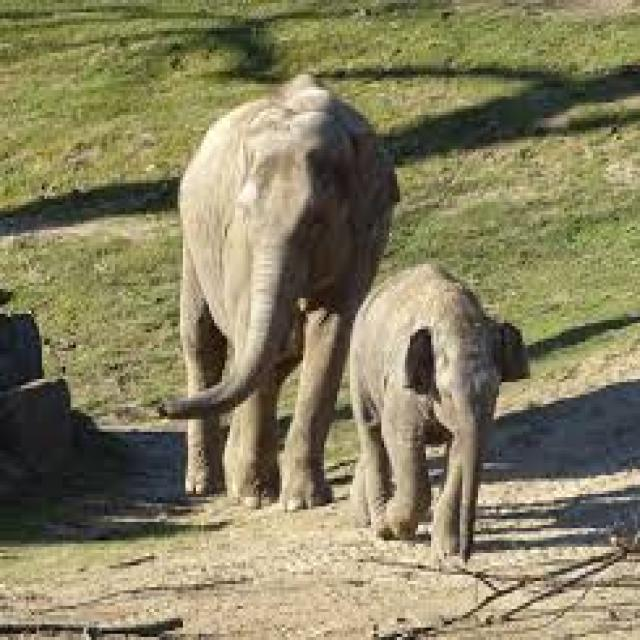Elephant: (159, 71, 400, 512), (345, 258, 530, 572)
